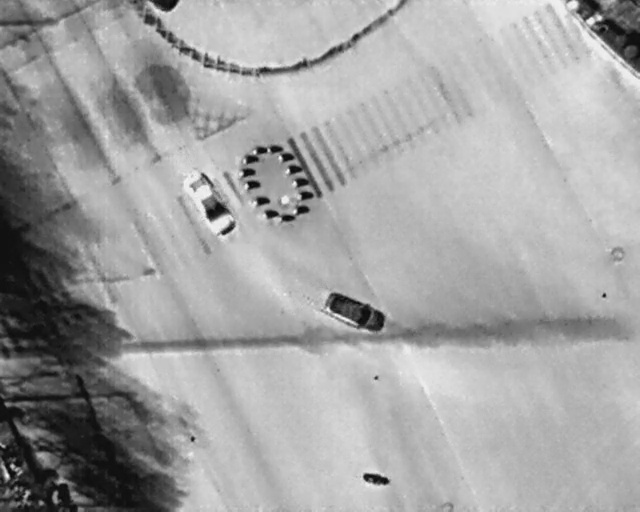Car: (178, 166, 241, 241), (320, 287, 389, 335)
